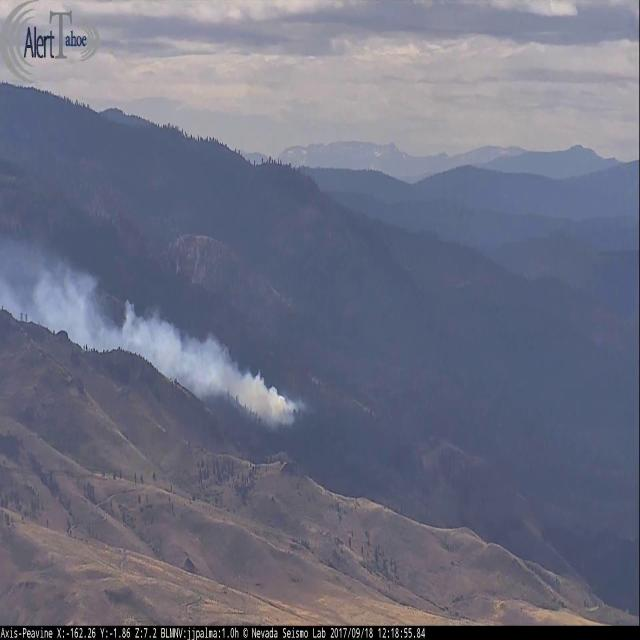smoke: (0, 242, 316, 447)
